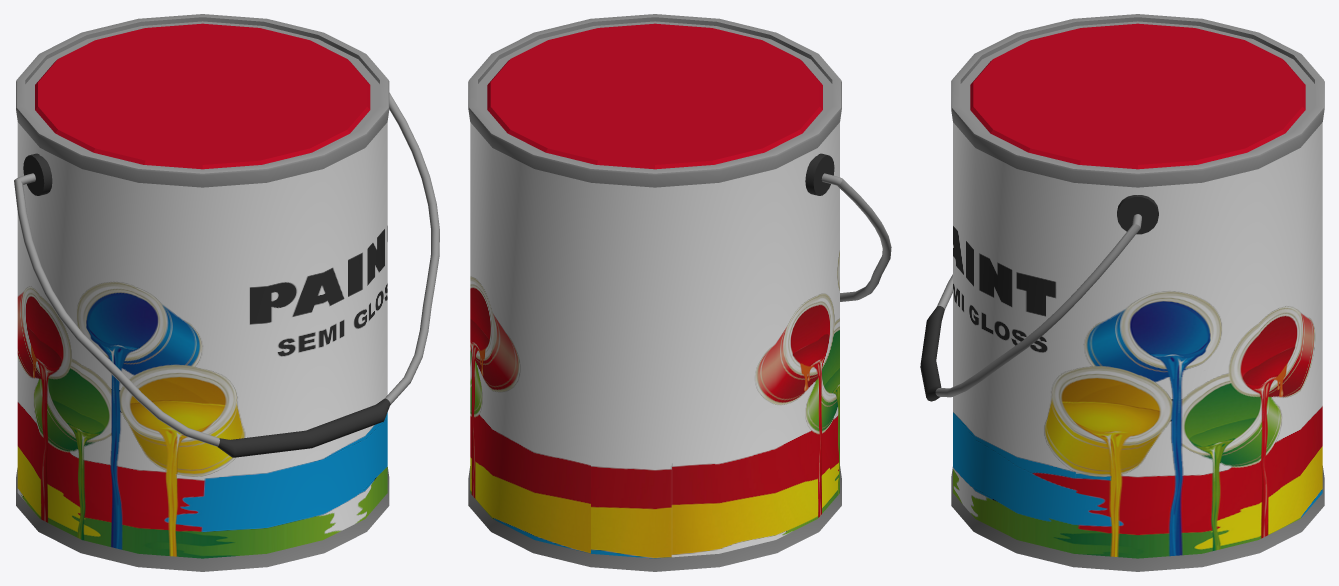
Rendered from Paint can 1.FBX.
The picture shows the model from 3 angles, left to right: view 1: azimuth 30°, elevation 25°; view 2: azimuth 150°, elevation 25°; view 3: azimuth 270°, elevation 25°; orthographic projection.
Parts seen in each view (by area): view 1: paint can 1; view 2: paint can 1; view 3: paint can 1.
Boxes of the visible parts, x1=… form: paint can 1: x1=14, y1=14, x2=439, y2=571; paint can 1: x1=468, y1=14, x2=891, y2=571; paint can 1: x1=920, y1=14, x2=1324, y2=571.
Size of the model in its own units: 16.83 by 16.24 by 14.93.
2 materials, 1 textured.
